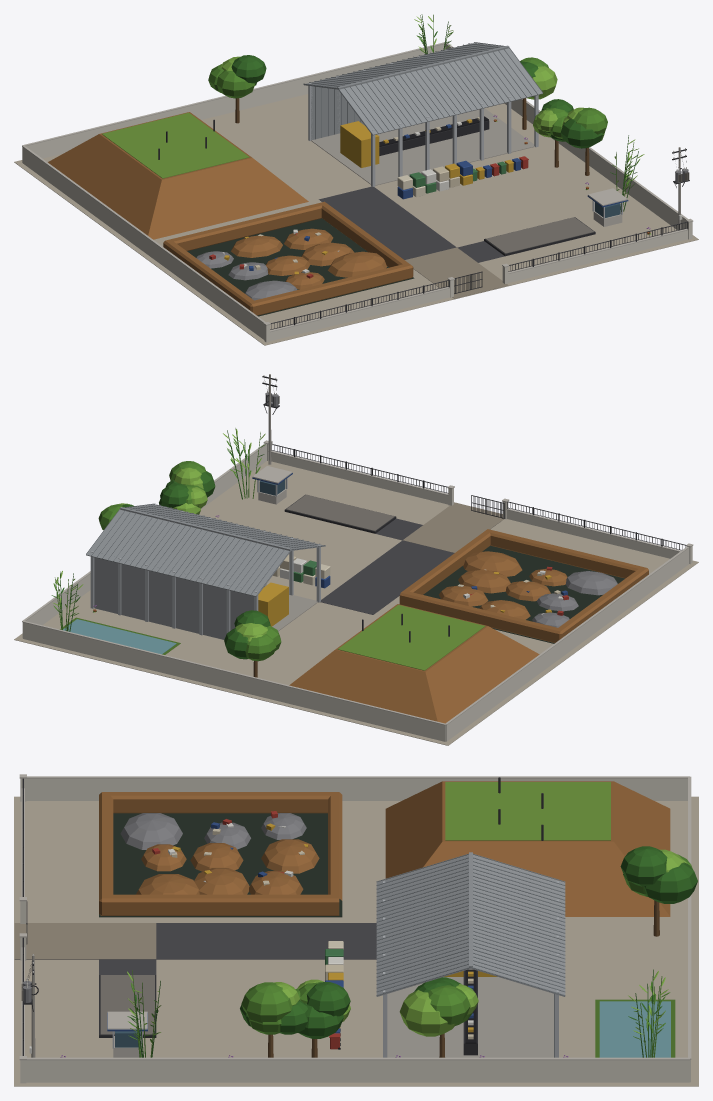
Rendered from waste.glb.
The picture shows the model from 3 angles, top to bottom: view 1: azimuth 30°, elevation 25°; view 2: azimuth 150°, elevation 25°; view 3: azimuth 270°, elevation 25°; orthographic projection. The views are drawn at different scales.
Parts seen in each view (by area): view 1: body; view 2: body; view 3: body.
Part boxes in pixels (box(x1,y1,x2,y2)): body: box(14, 14, 698, 345); body: box(14, 374, 698, 745); body: box(14, 774, 698, 1086).
Size of the model in its own units: 48.75 by 9.71 by 47.9.
